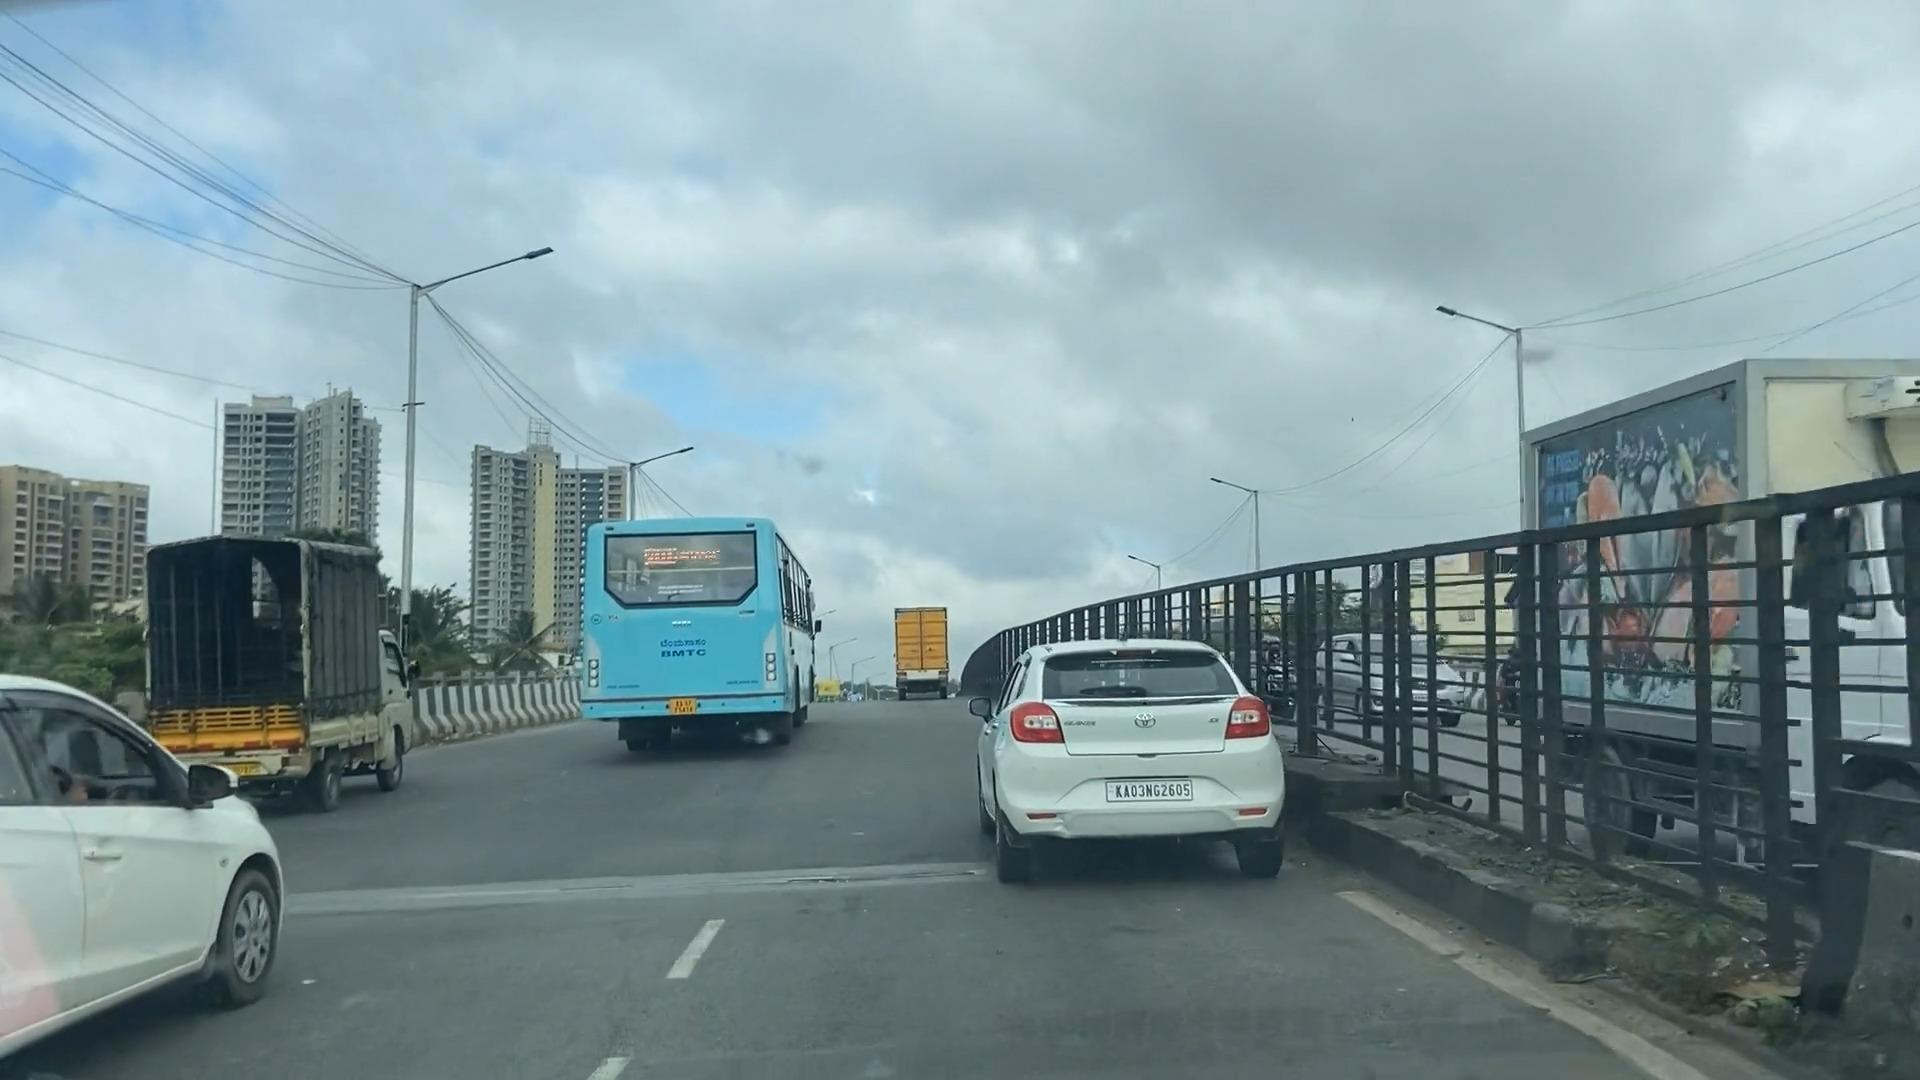HMV: (125, 496, 439, 833), (566, 489, 836, 778), (884, 589, 960, 703)
